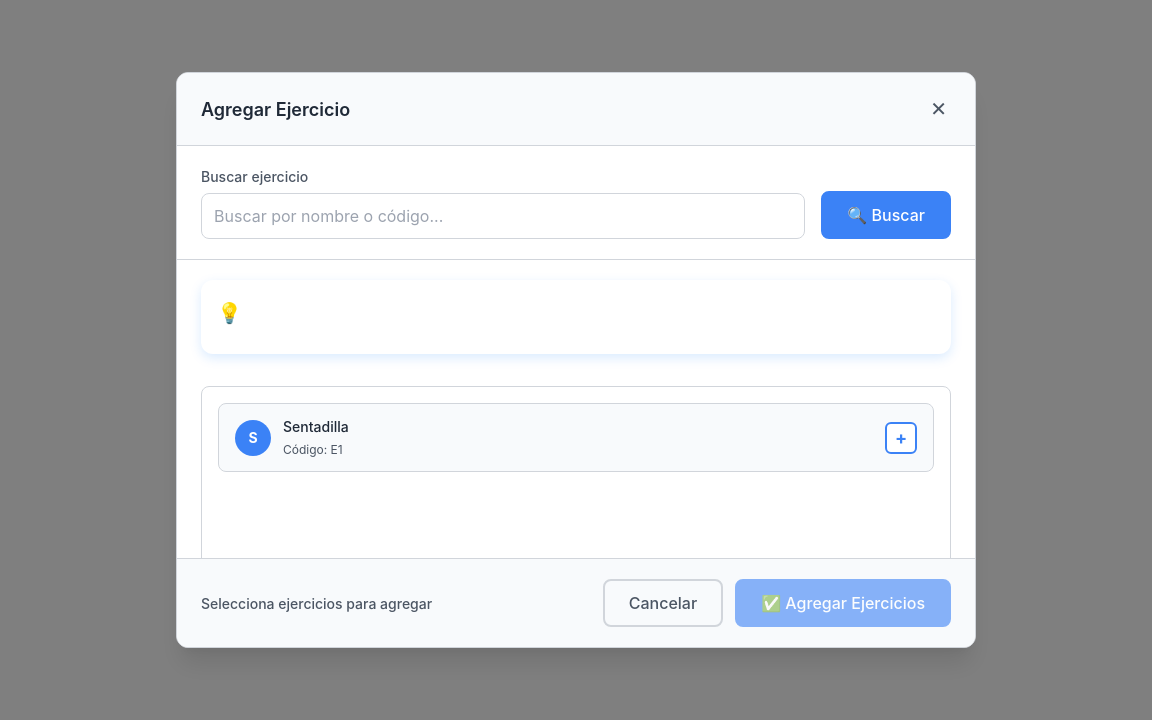
ExerciseSearch › bloquea el envío mientras agrega y conserva la selección ante un error
Click the button with aria-label "Seleccionar ejercicio Sentadilla": (253,438) [218, 403, 934, 472]
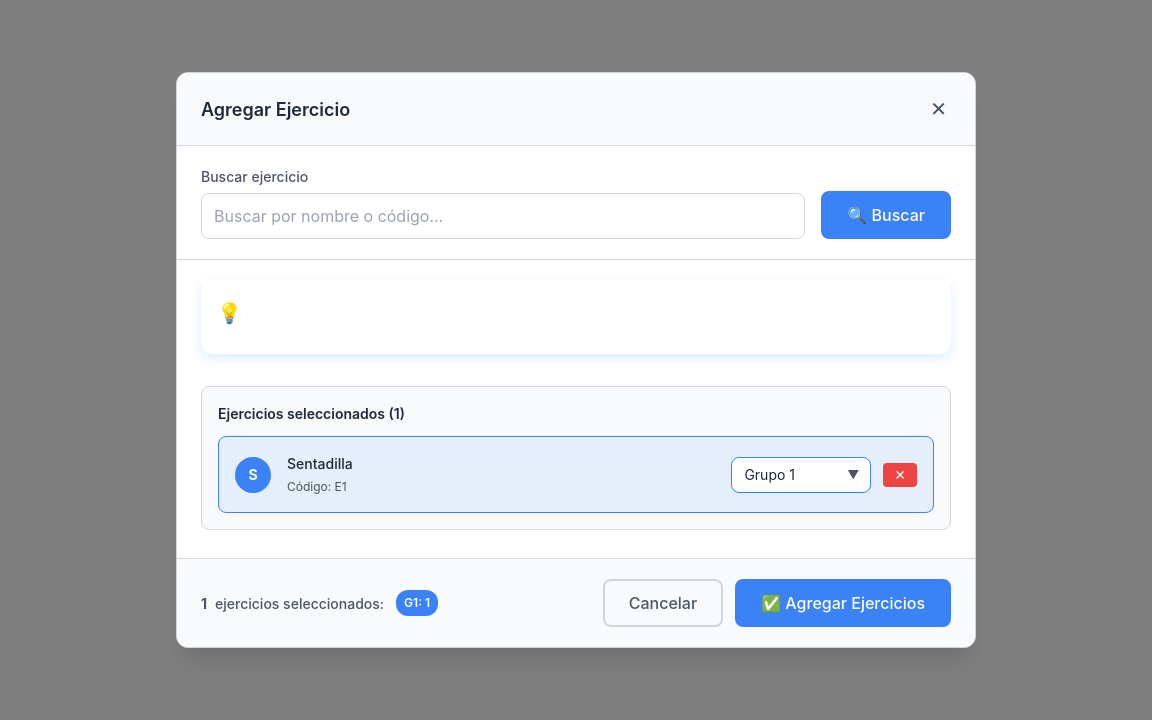
Click the button "✅ Agregar Ejercicios": (843,603) [735, 579, 951, 627]
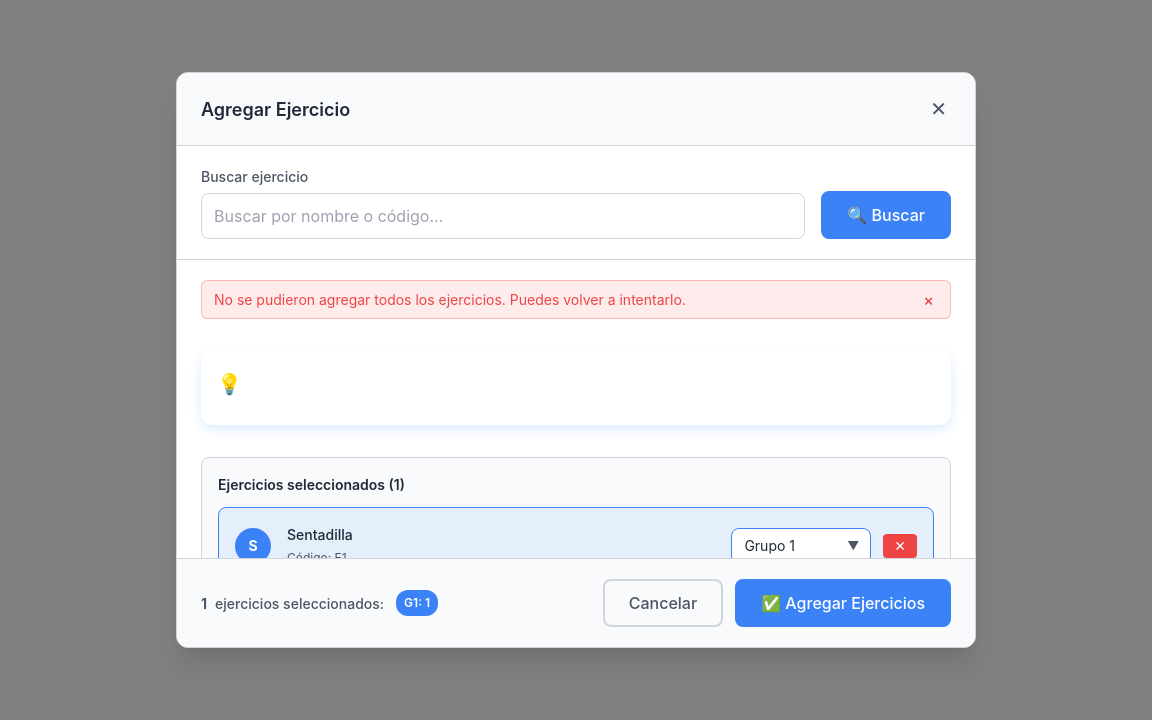
expect the heading "Ejercicios seleccionados (1)" is shown: met, box [218, 476, 405, 493]
expect the text "No se pudieron agregar todos" is shown: met, box [214, 291, 686, 308]
